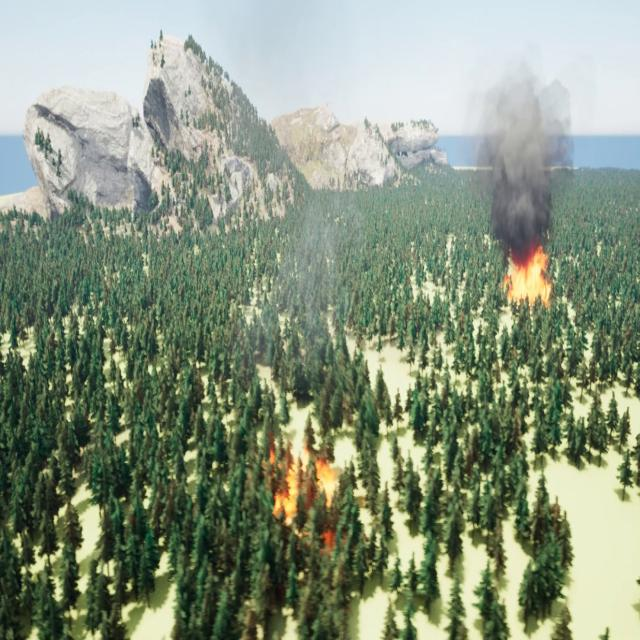fire: (261, 438, 354, 548), (504, 246, 553, 302)
smoke: (255, 196, 348, 408), (477, 62, 576, 250)
